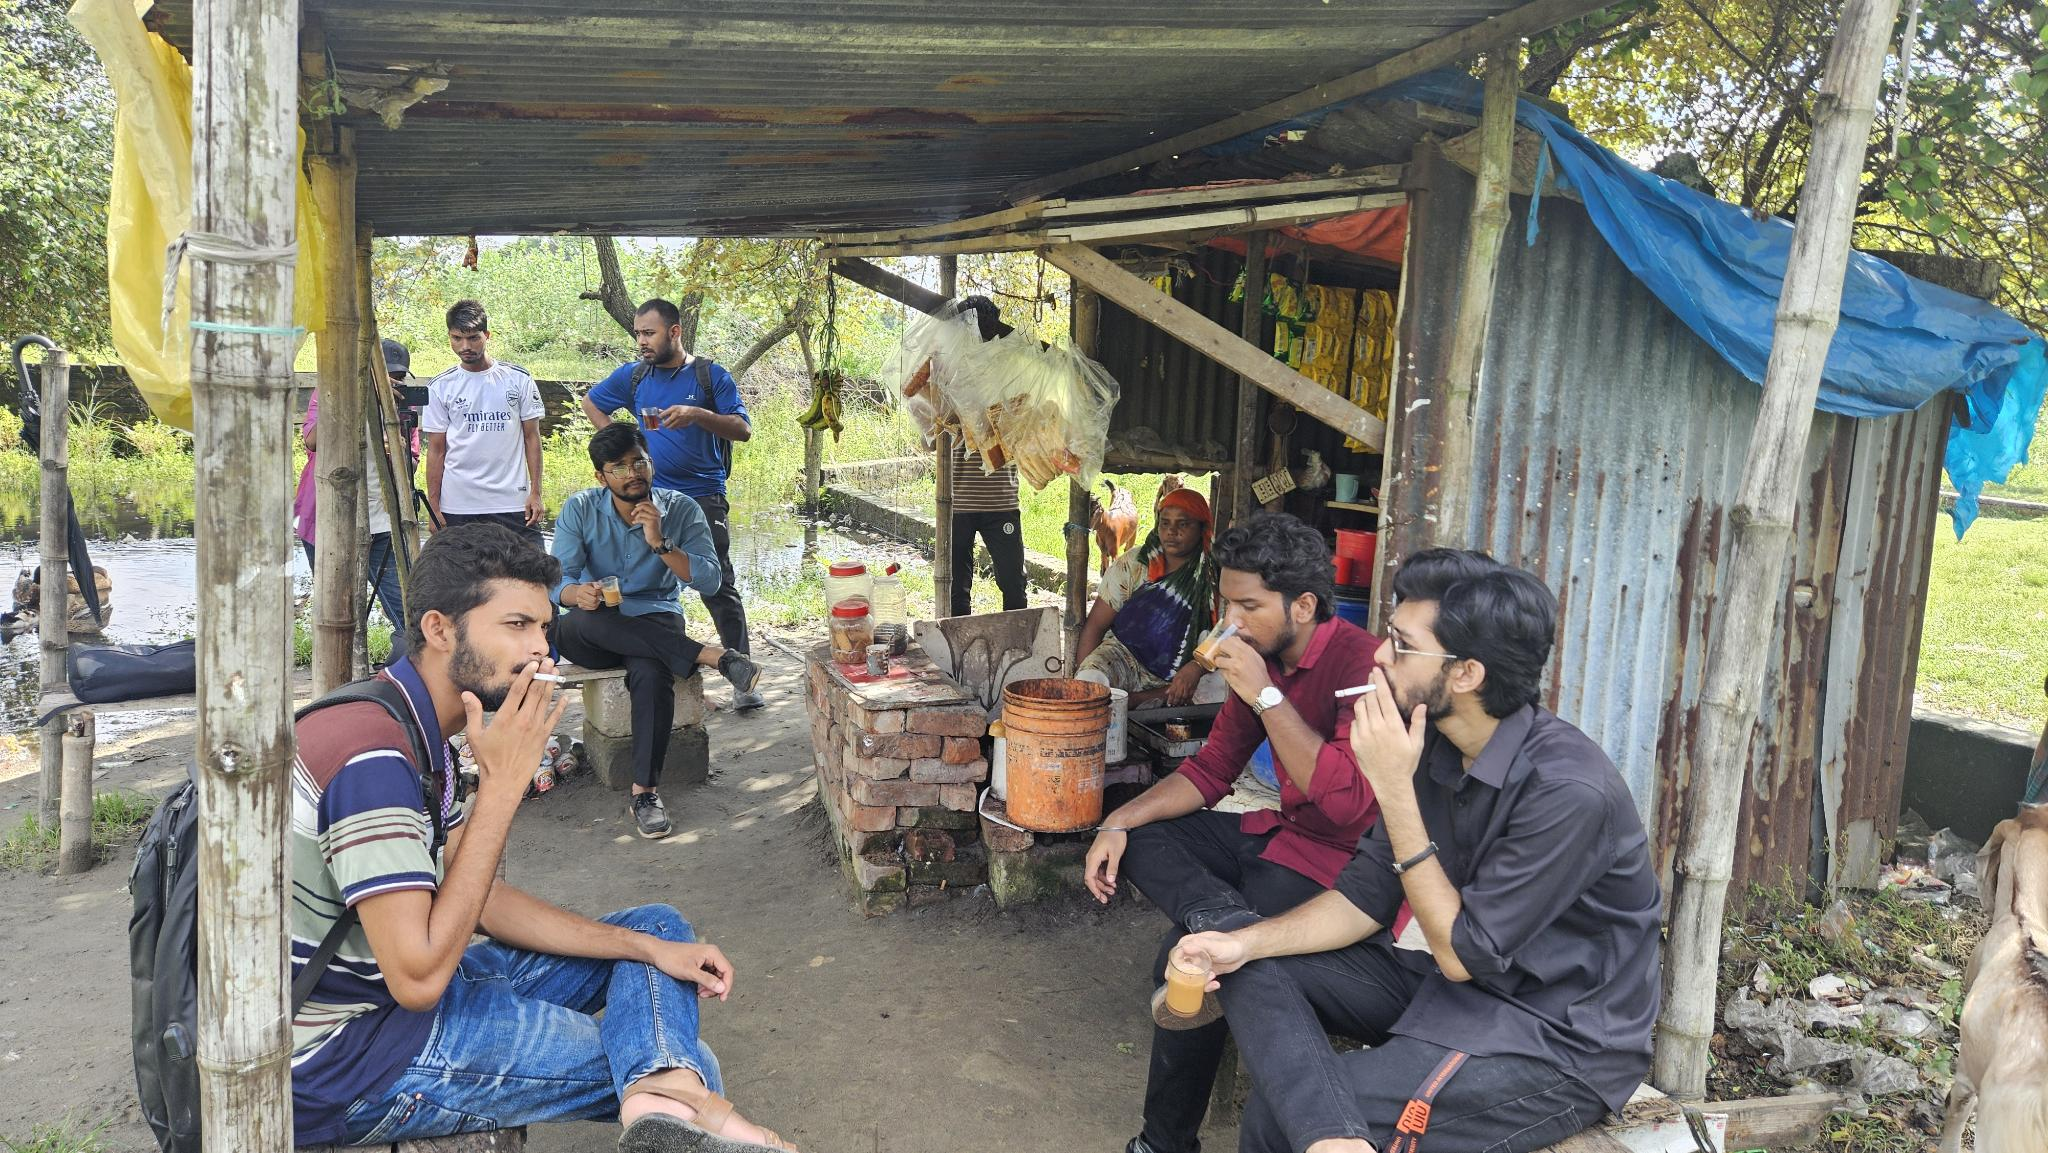cigarette: (1332, 682, 1377, 700), (532, 671, 568, 685)
nonSmoker: (1083, 519, 1380, 931), (550, 420, 761, 839), (581, 298, 765, 710), (422, 299, 546, 547), (1075, 488, 1214, 697)
smoker: (281, 527, 799, 1153), (1175, 547, 1667, 1153)
